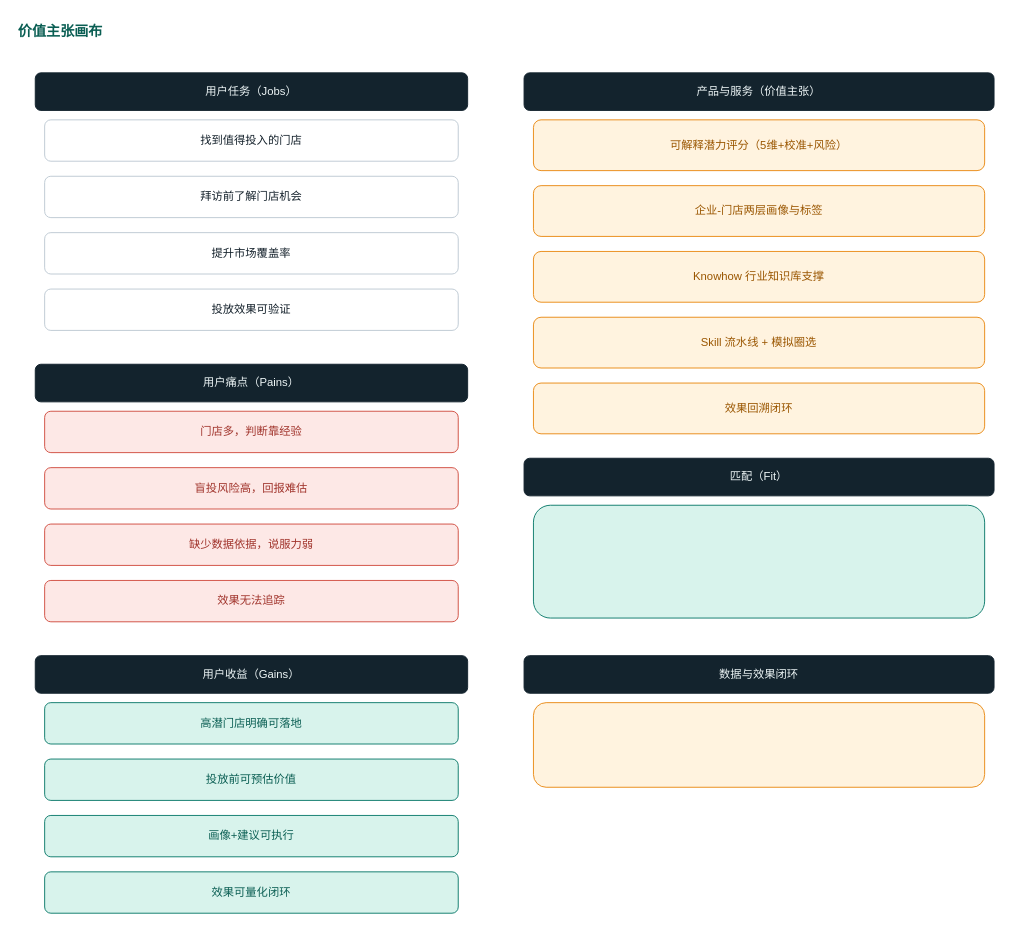
This 1011x930 diagram has some shape labels left out. Here are the shapes that lost their labels. From the top down, the box of each, then its label:
(533, 504, 985, 618): 痛点 → 产品： "判断靠经验"→ 可解释评分 "盲投"→ 模拟圈选 "效果难追"→ 效果回溯
(533, 702, 985, 787): 数据回流 → 校准参数 → 优化评分 → 提升推荐准确率 → 数据更多
